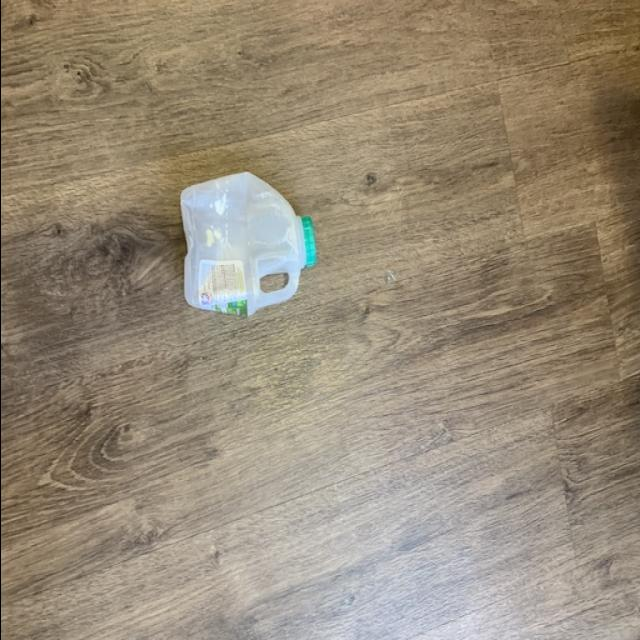HDPEM: (177, 170, 317, 319)
